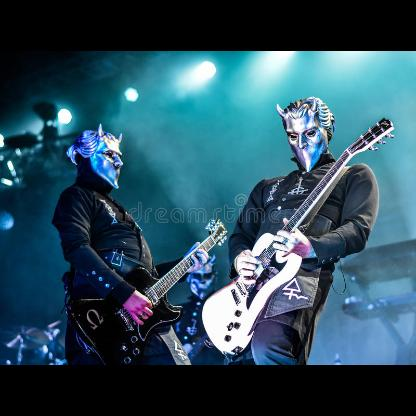guitar: (201, 117, 395, 359), (65, 218, 226, 360)
